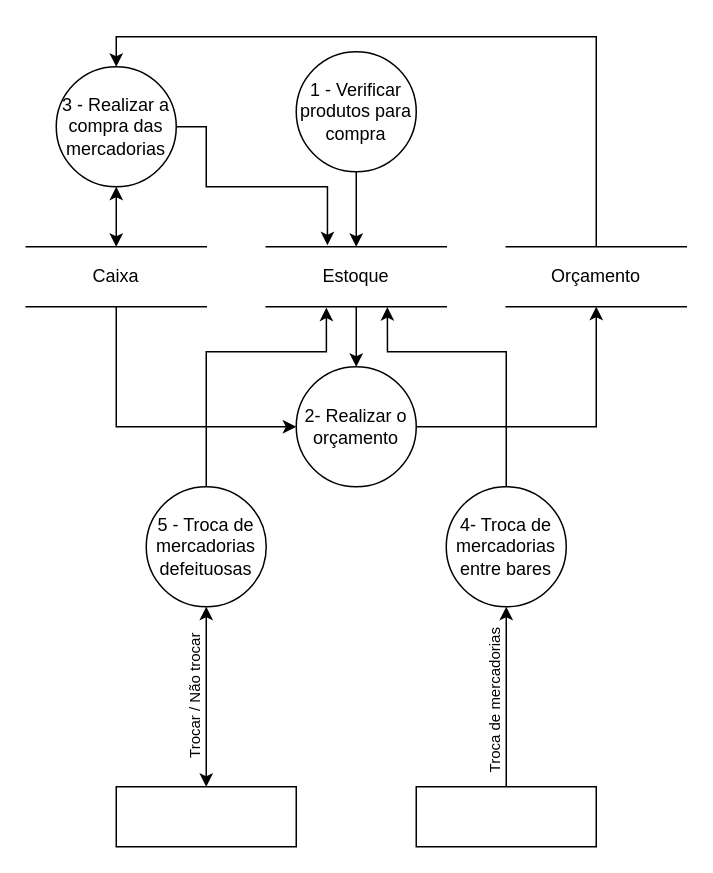
Image size: 713x873. Some labels were removed from this diagram. Each missing label, with the centre of its shape:
Bares/Lanchonetes: the point at 505,816
Fornecedor: the point at 205,816
